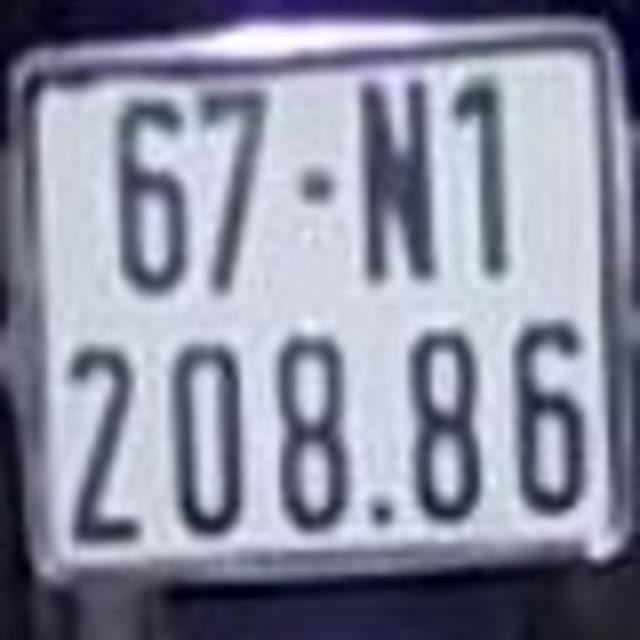0: (162, 322, 250, 556)
1: (446, 70, 532, 284)
2: (53, 331, 151, 548)
6: (106, 81, 194, 298), (506, 300, 595, 514)
7: (194, 65, 273, 305)
8: (271, 319, 361, 546), (398, 305, 485, 521)
M: (351, 74, 444, 289)
